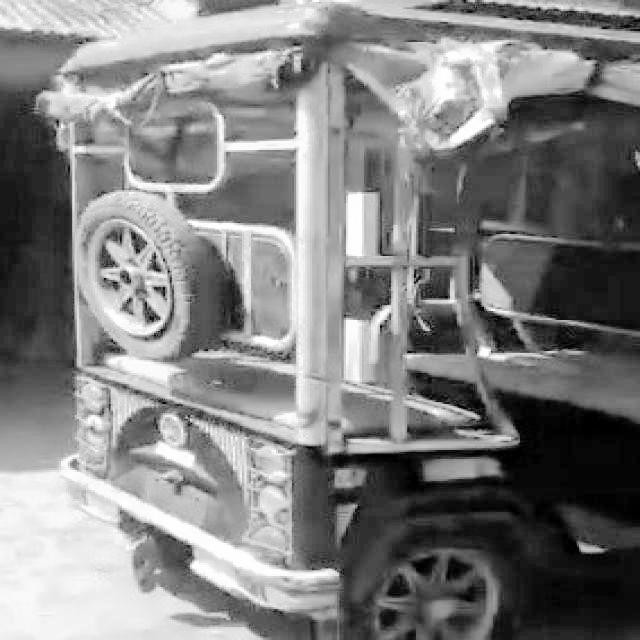Toto: (40, 2, 633, 618)
